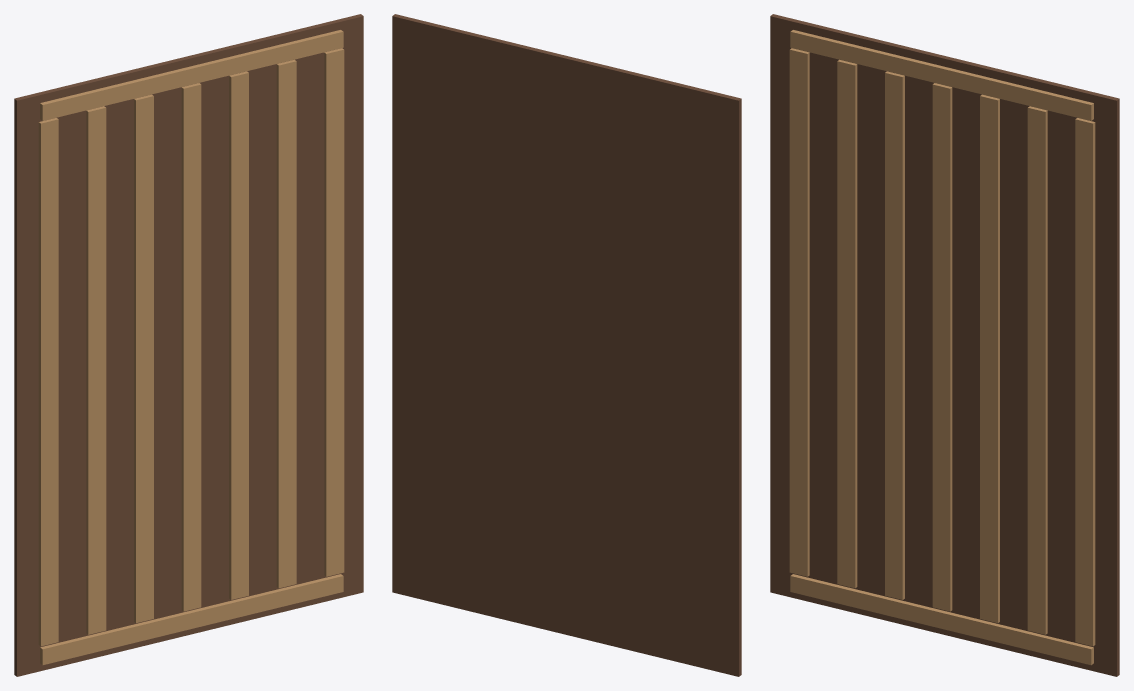
3 renders of one model, left to right at view 1: azimuth 30°, elevation 25°; view 2: azimuth 150°, elevation 25°; view 3: azimuth 330°, elevation 25°, orthographic.
Parts seen in each view (by area): view 1: exterior-door-leaf, slat-2, slat-1, slat-7, slat-4, slat-6, slat-3, slat-5, slatted-rail-top, slatted-rail-bottom; view 2: exterior-door-leaf; view 3: exterior-door-leaf, slat-6, slat-7, slat-1, slat-2, slat-4, slat-5, slat-3, slatted-rail-top, slatted-rail-bottom.
Part boxes in pixels (x1,y1,x2,y2): exterior-door-leaf: (14,14,363,676); slat-2: (86,106,106,634); slat-1: (38,118,58,646); slat-7: (324,48,344,576); slat-4: (181,83,201,611); slat-6: (276,59,296,588); slat-3: (134,94,153,623); slat-5: (229,71,248,599); slatted-rail-top: (40,30,343,120); slatted-rail-bottom: (40,574,343,665); exterior-door-leaf: (392,14,741,676); exterior-door-leaf: (770,14,1119,676); slat-6: (1027,106,1047,634); slat-7: (1075,118,1095,646); slat-1: (789,48,809,576); slat-2: (837,59,857,588); slat-4: (932,83,952,611); slat-5: (980,94,999,623); slat-3: (885,71,904,599); slatted-rail-top: (790,30,1093,120); slatted-rail-bottom: (790,574,1093,665).
Size of the model in its own units: 1.36 by 2.16 by 0.038.
